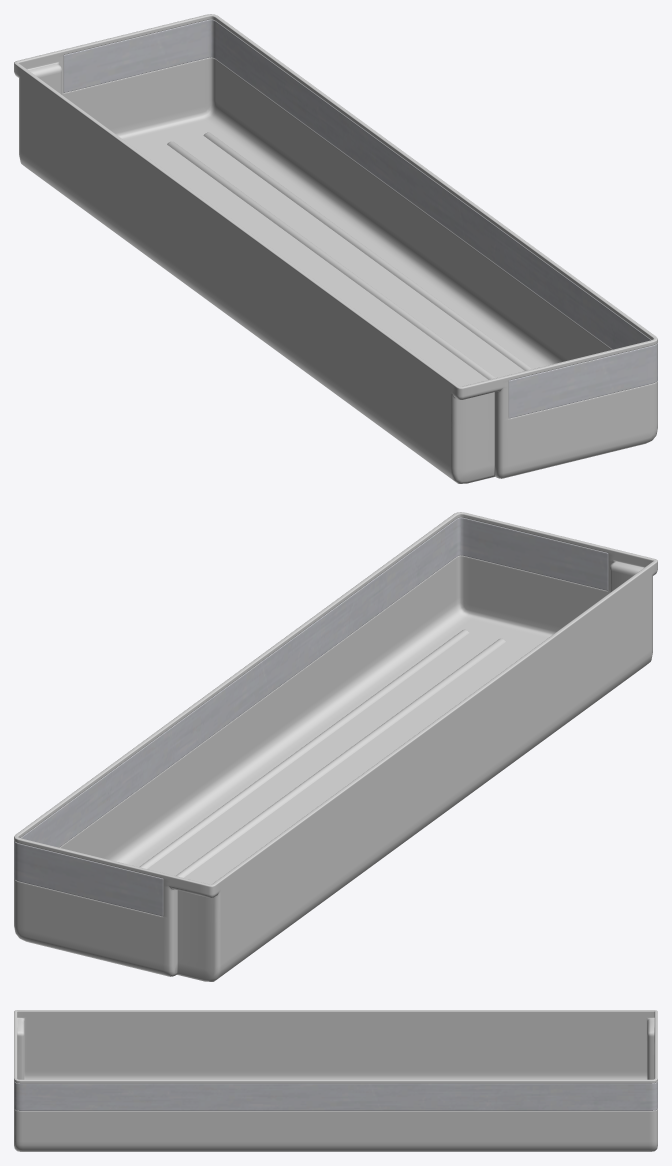
Rendered from SM_Fridge_Door_Tray_02.dae.
3 views of the same model, one above another, from view 1: azimuth 30°, elevation 25°; view 2: azimuth 150°, elevation 25°; view 3: azimuth 270°, elevation 25° (orthographic). The views are drawn at different scales.
Parts seen in each view (by area): view 1: SM_Fridge_Door_Tray_02; view 2: SM_Fridge_Door_Tray_02; view 3: SM_Fridge_Door_Tray_02.
Boxes of the visible parts, <box> form: SM_Fridge_Door_Tray_02: <box>14,14,657,483</box>; SM_Fridge_Door_Tray_02: <box>14,512,657,981</box>; SM_Fridge_Door_Tray_02: <box>14,1010,657,1151</box>.
Size of the model in its own units: 0.11 by 0.422 by 0.0538.
Materials: 2 (1 with a texture image).
